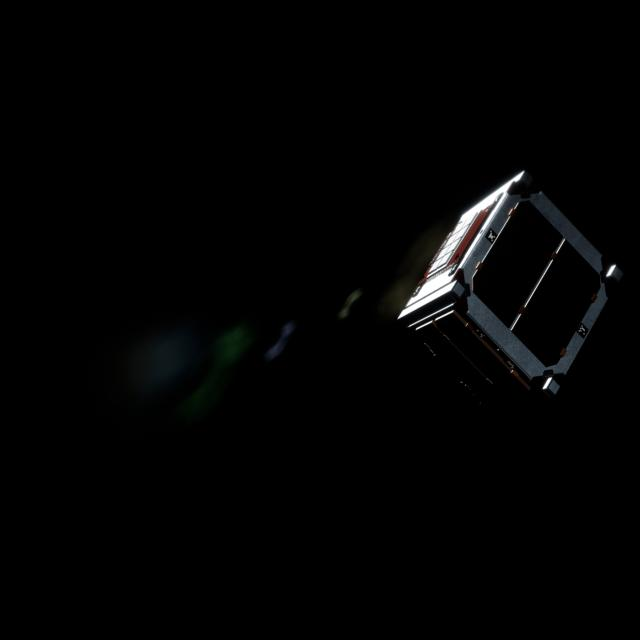medium_debris: (395, 166, 627, 414)
